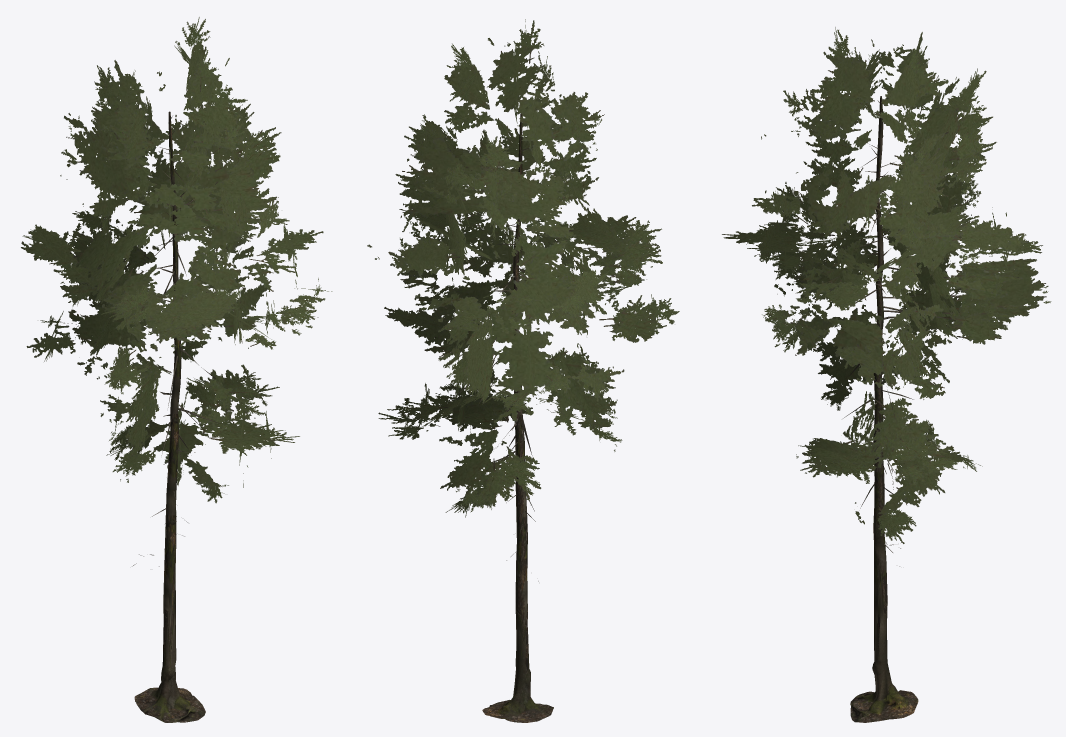
File: fir_b.glb
3 renders of one model, left to right at view 1: azimuth 30°, elevation 25°; view 2: azimuth 150°, elevation 25°; view 3: azimuth 270°, elevation 25°, orthographic. The views are drawn at different scales.
Visible parts, largest first — view 1: foliage, fir_tree_01_b_LOD0 (×2); view 2: foliage, fir_tree_01_b_LOD0 (×2); view 3: foliage, fir_tree_01_b_LOD0 (×2).
Part boxes in pixels (left/top/right/bottom): foliage: left=21, top=17, right=332, bottom=503; fir_tree_01_b_LOD0 (×2): left=132, top=111, right=221, bottom=722; foliage: left=367, top=19, right=679, bottom=517; fir_tree_01_b_LOD0 (×2): left=454, top=113, right=578, bottom=722; foliage: left=722, top=27, right=1051, bottom=543; fir_tree_01_b_LOD0 (×2): left=843, top=96, right=924, bottom=722.
Bounding box in the file's own units: 5.63 × 14.06 × 6.24.
3 materials, 3 textured.
